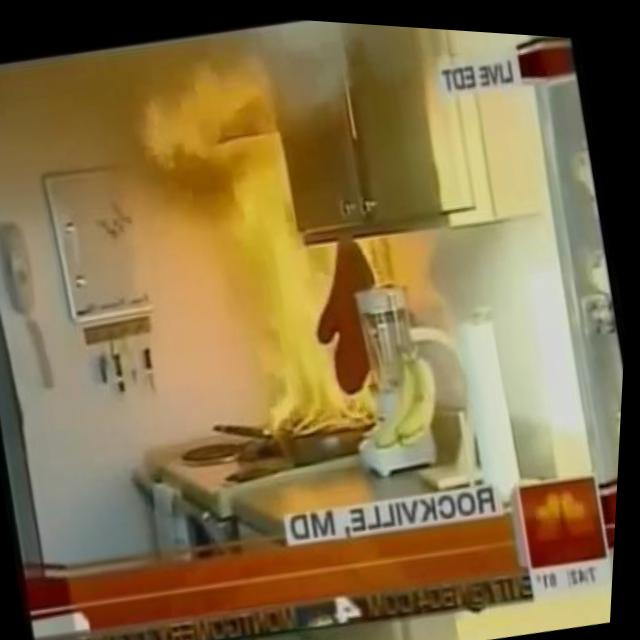fire: (210, 137, 384, 441)
